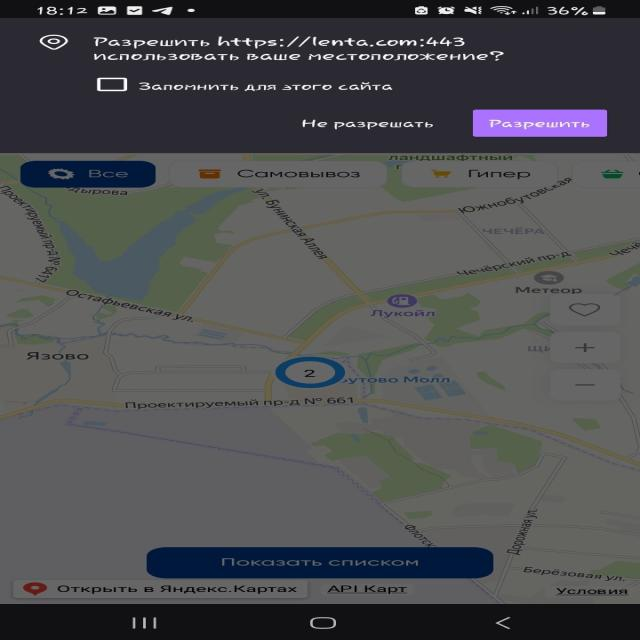button: (289, 110, 444, 139), (476, 111, 614, 138)
system: (6, 19, 640, 151)
